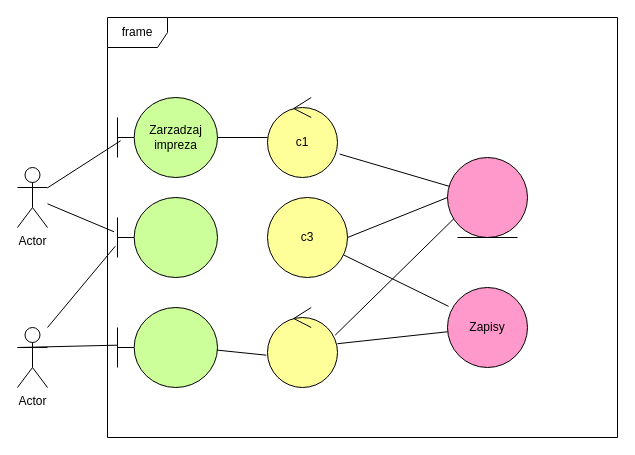
The diagram is 635 pixels wide and 455 high, and some of its shapes have lost their labels. The shapes that lost their labels are listed below. From the top down, each one's box as (x1, y1, x2, y2) in pixels, then its label:
(446, 156, 528, 238): impreza
(116, 196, 218, 278): Boundary Object
(116, 306, 218, 388): Zapisz udzial
(266, 306, 338, 388): C2
